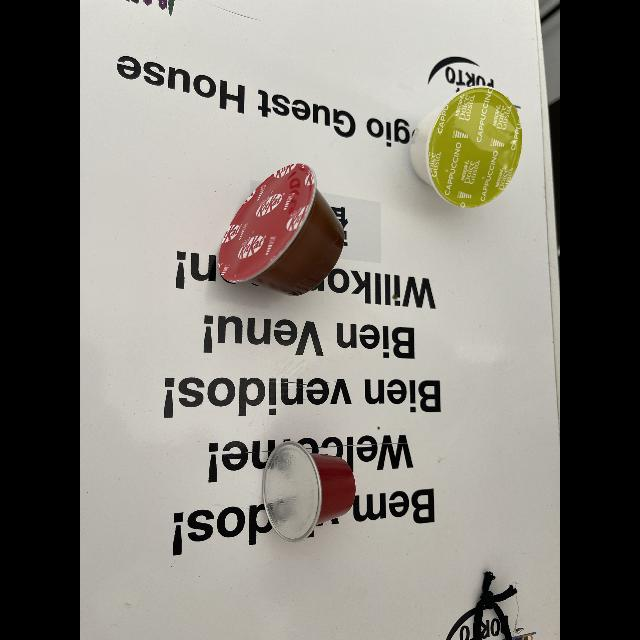intact_capsule: (203, 154, 351, 302), (402, 76, 528, 214), (259, 426, 365, 544)
